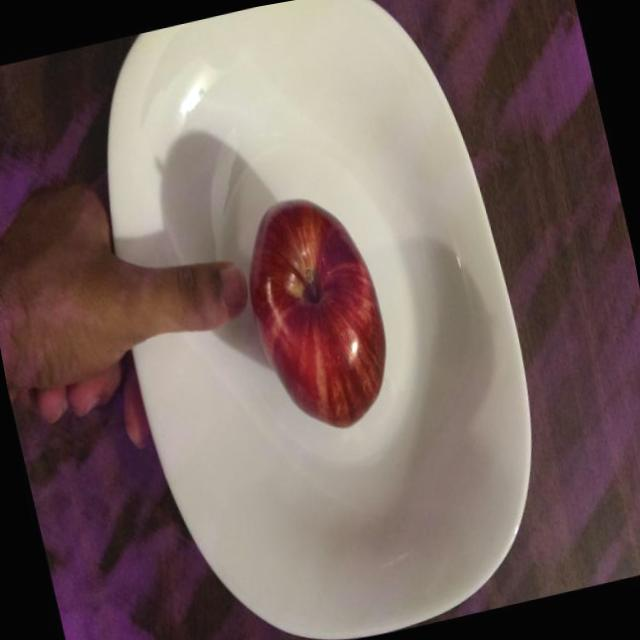Apple: (226, 180, 412, 448)
Finger: (150, 237, 258, 344)
